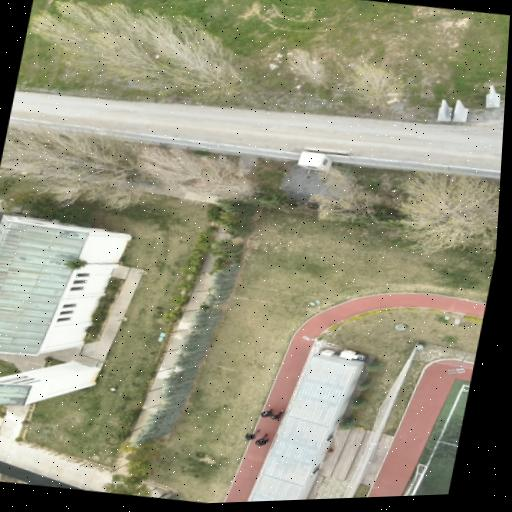person: (255, 434, 268, 446), (245, 430, 259, 441), (214, 502, 228, 512), (271, 411, 283, 420), (261, 409, 273, 417)
